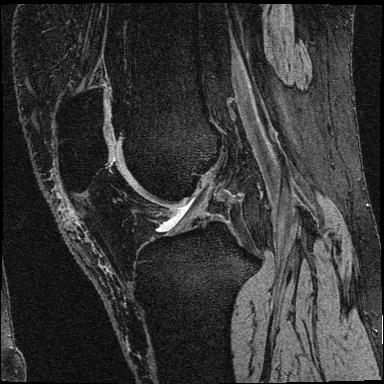SagKneeJointArea: (55, 86, 264, 301)
